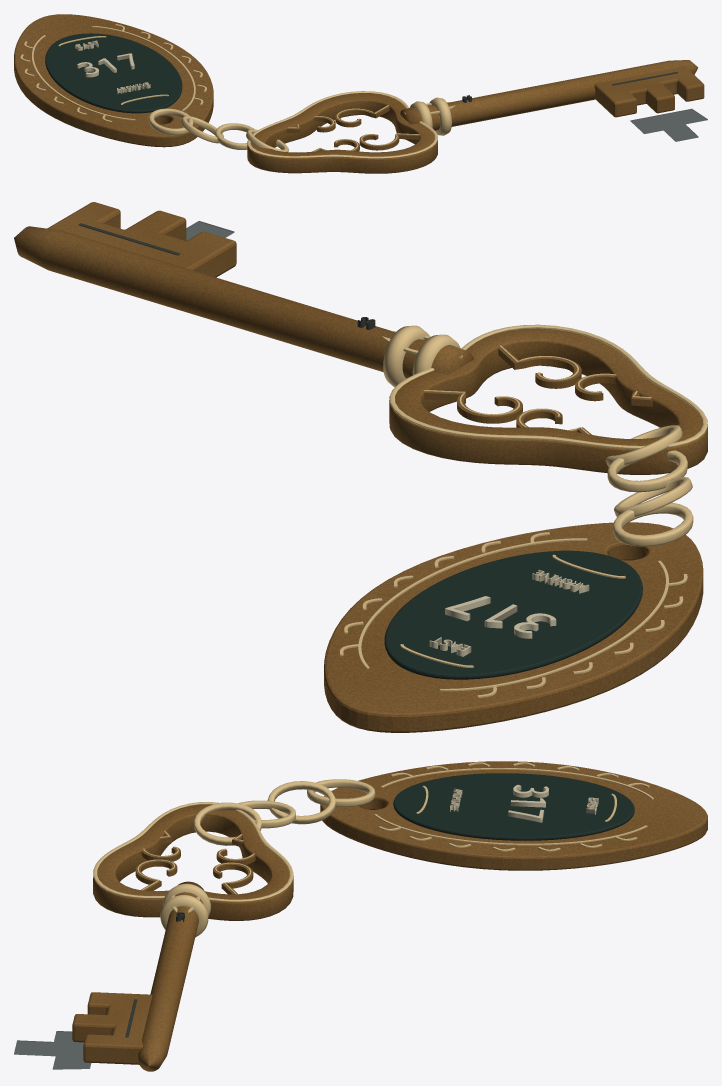
The model's file is ornate-key.glb.
3 renders of one model, top to bottom at view 1: azimuth 30°, elevation 25°; view 2: azimuth 150°, elevation 25°; view 3: azimuth 270°, elevation 25°, orthographic. The views are drawn at different scales.
Parts seen in each view (by area): view 1: Key_Instrument / Aged brass / Key_inspection_mount, Key lozenge fob with pierced eye, Key fob dark enamel inset, Key_Instrument / Polished touch edges / Key_inspection_mount, Key_Numbered_Fob / Polished touch edges / Key_inspection_mou, Key_shadow_tooth, Key_Numbered_Fob / Ivory enamel / Key_inspection_mount; view 2: Key_Instrument / Aged brass / Key_inspection_mount, Key lozenge fob with pierced eye, Key fob dark enamel inset, Key_Instrument / Polished touch edges / Key_inspection_mount, Key_Numbered_Fob / Polished touch edges / Key_inspection_mou, Key_Numbered_Fob / Ivory enamel / Key_inspection_mount; view 3: Key_Instrument / Aged brass / Key_inspection_mount, Key lozenge fob with pierced eye, Key fob dark enamel inset, Key_Instrument / Polished touch edges / Key_inspection_mount, Key_Numbered_Fob / Polished touch edges / Key_inspection_mou, Key_shadow_tooth, Key_Numbered_Fob / Ivory enamel / Key_inspection_mount.
Boxes of the visible parts, bbox=[...] form: Key_Instrument / Aged brass / Key_inspection_mount: bbox=[247, 60, 704, 173]; Key lozenge fob with pierced eye: bbox=[14, 14, 213, 147]; Key fob dark enamel inset: bbox=[45, 33, 182, 113]; Key_Instrument / Polished touch edges / Key_inspection_mount: bbox=[20, 24, 455, 158]; Key_Numbered_Fob / Polished touch edges / Key_inspection_mou: bbox=[148, 108, 288, 151]; Key_shadow_tooth: bbox=[630, 108, 707, 141]; Key_Numbered_Fob / Ivory enamel / Key_inspection_mount: bbox=[75, 40, 150, 93]; Key_Instrument / Aged brass / Key_inspection_mount: bbox=[14, 202, 707, 474]; Key lozenge fob with pierced eye: bbox=[324, 522, 703, 732]; Key fob dark enamel inset: bbox=[384, 550, 642, 679]; Key_Instrument / Polished touch edges / Key_inspection_mount: bbox=[340, 324, 707, 697]; Key_Numbered_Fob / Polished touch edges / Key_inspection_mou: bbox=[605, 425, 693, 546]; Key_Numbered_Fob / Ivory enamel / Key_inspection_mount: bbox=[429, 570, 589, 656]; Key_Instrument / Aged brass / Key_inspection_mount: bbox=[72, 804, 293, 1071]; Key lozenge fob with pierced eye: bbox=[320, 761, 707, 870]; Key fob dark enamel inset: bbox=[393, 773, 634, 840]; Key_Instrument / Polished touch edges / Key_inspection_mount: bbox=[93, 762, 653, 937]; Key_Numbered_Fob / Polished touch edges / Key_inspection_mou: bbox=[194, 779, 375, 845]; Key_shadow_tooth: bbox=[14, 1031, 91, 1069]; Key_Numbered_Fob / Ivory enamel / Key_inspection_mount: bbox=[450, 784, 598, 822].
Size of the model in its own units: 0.6365 by 0.0432 by 0.593.
6 materials, 2 textured.
